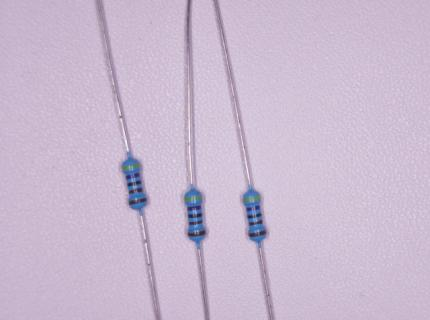Black band: (127, 180, 142, 188), (188, 213, 202, 219), (248, 213, 262, 219)
Brown band: (129, 197, 148, 206), (248, 230, 267, 238), (187, 230, 206, 237), (128, 188, 144, 195), (248, 220, 263, 226), (189, 221, 202, 225)
Violet band: (125, 173, 141, 181), (246, 205, 261, 212), (187, 206, 202, 212)
Yellow band: (122, 163, 141, 171), (243, 196, 261, 203), (185, 196, 203, 202)
